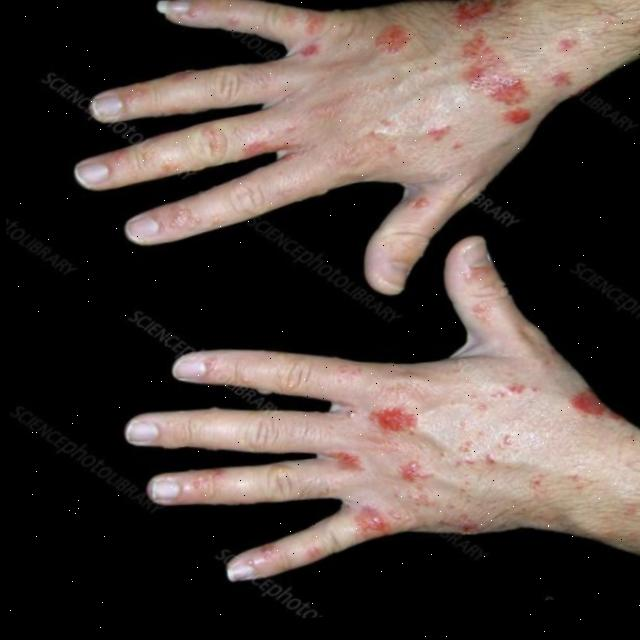Eczema: (316, 361, 603, 547), (304, 0, 589, 161)
